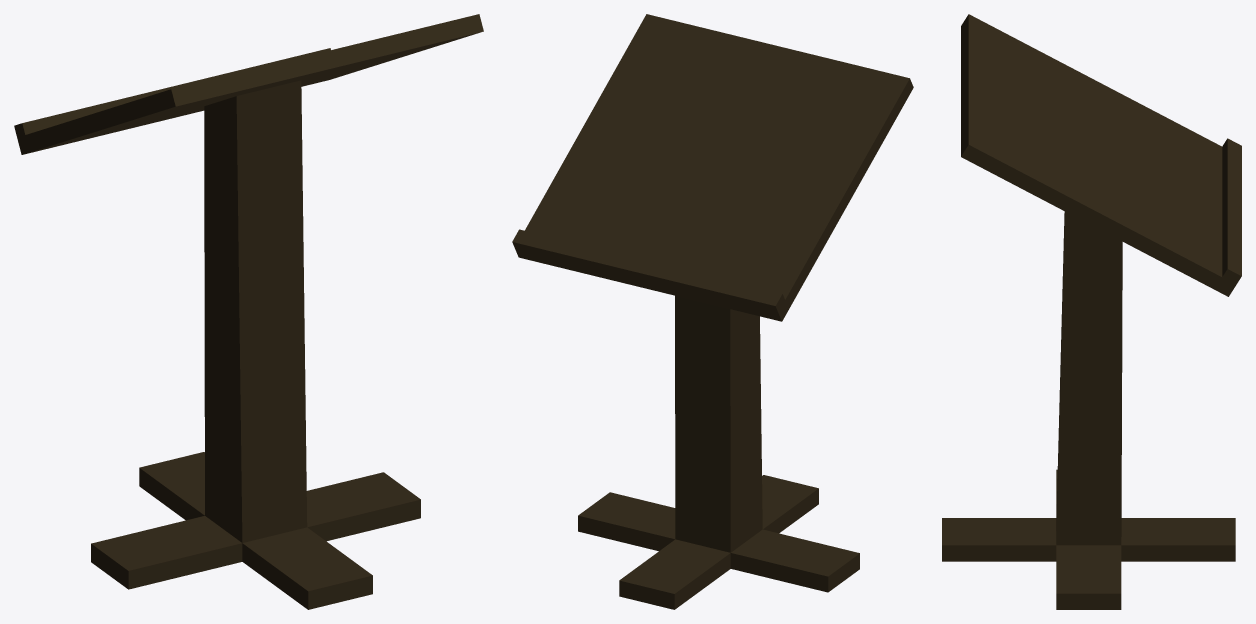
3 views of the same model, side by side, from view 1: azimuth 30°, elevation 25°; view 2: azimuth 150°, elevation 25°; view 3: azimuth 270°, elevation 25° (orthographic). The views are drawn at different scales.
Visible parts, largest first — view 1: Object013; view 2: Object013; view 3: Object013.
Boxes of the visible parts, x1,y1,x2,y2 form: Object013: [14, 14, 483, 609]; Object013: [512, 14, 913, 609]; Object013: [942, 14, 1241, 609].
Size of the model in its own units: 0.5313 by 0.8885 by 0.515.
